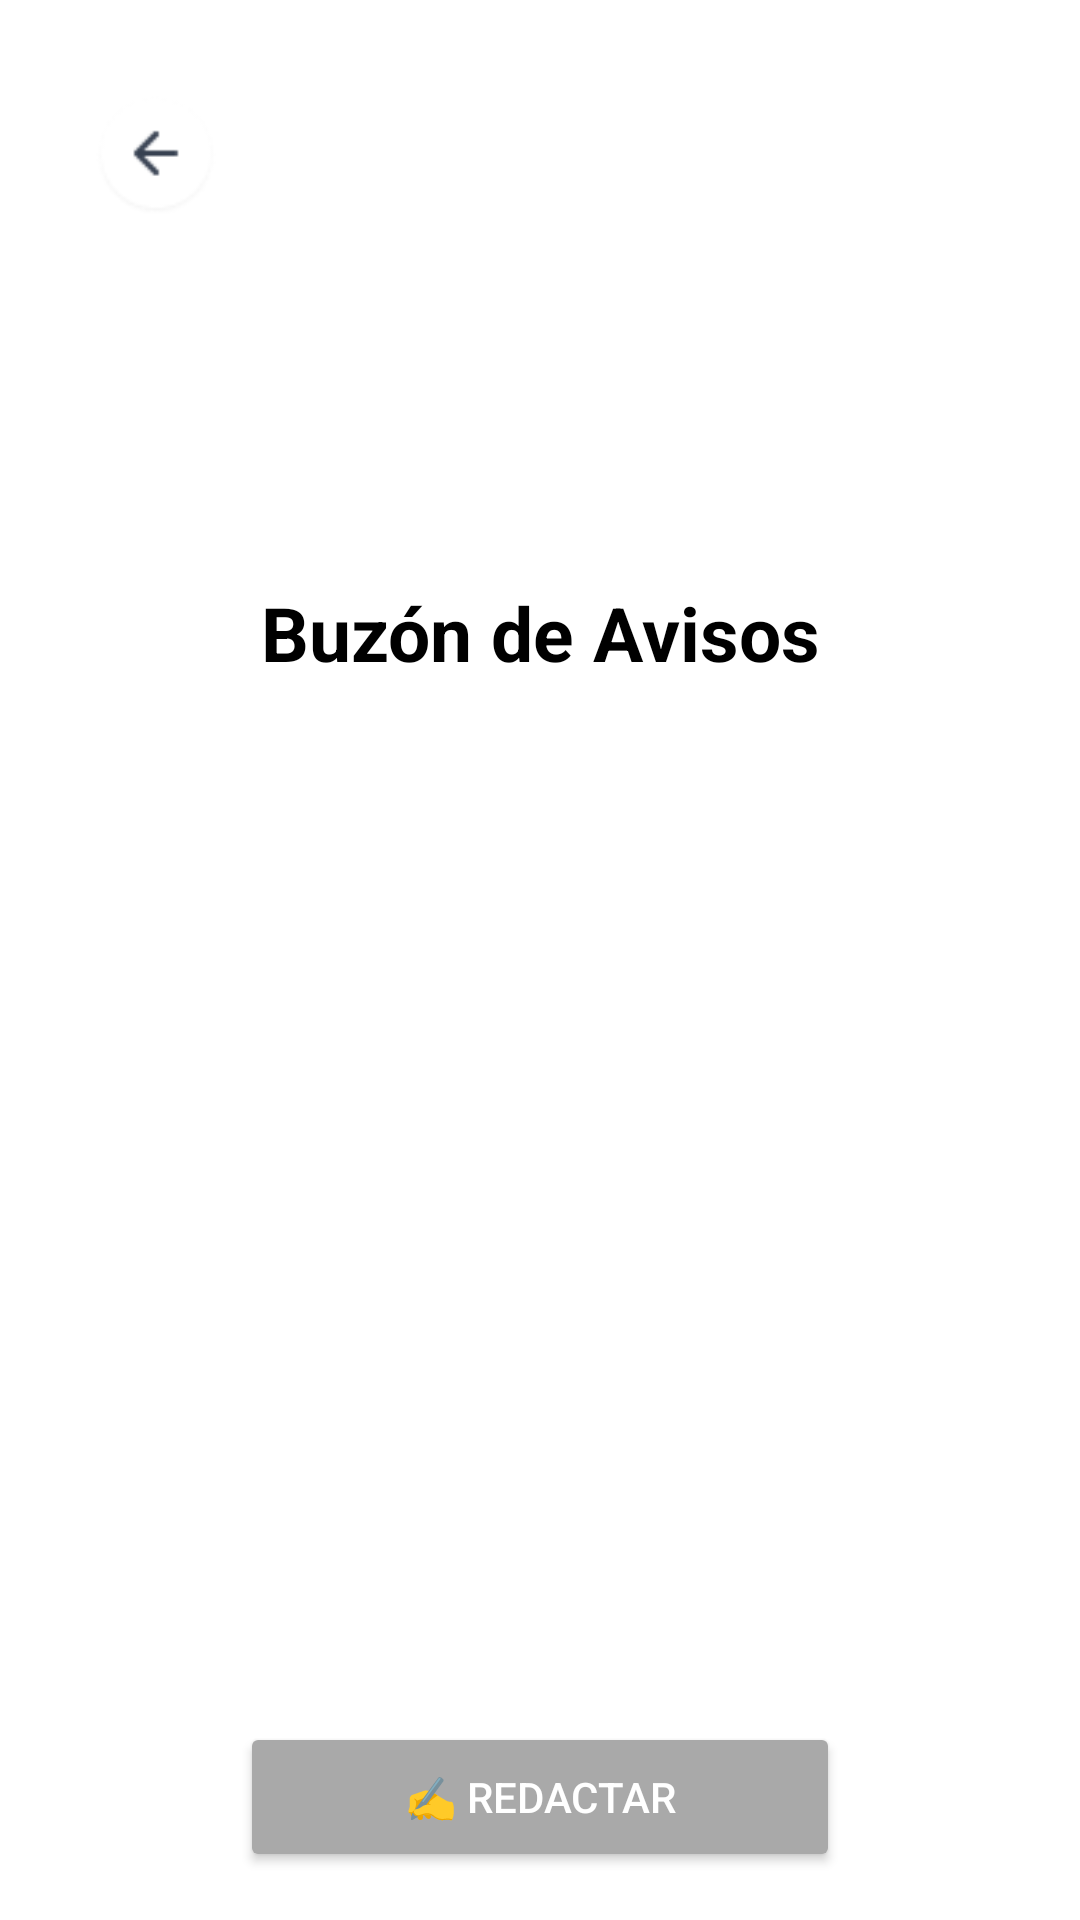

Locate icon controls on the screen. Image size 1080x1920, boxes as (x1, y1, x2, y2).
back: (133, 130, 179, 176)
